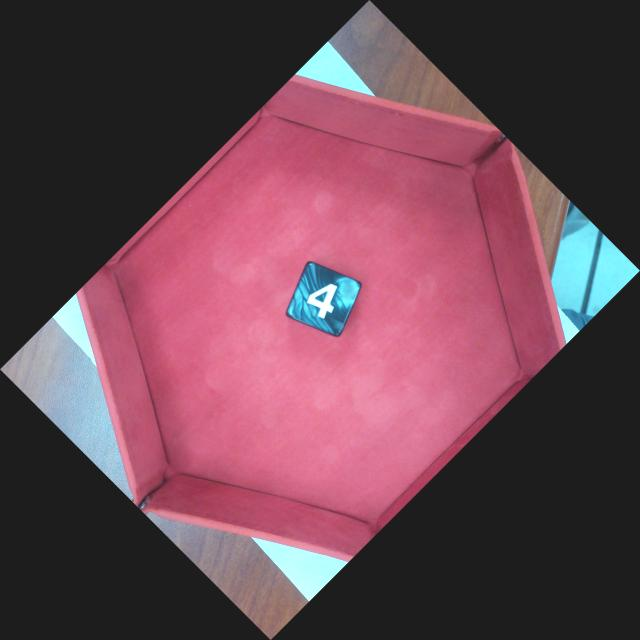dice: (281, 258, 363, 340)
